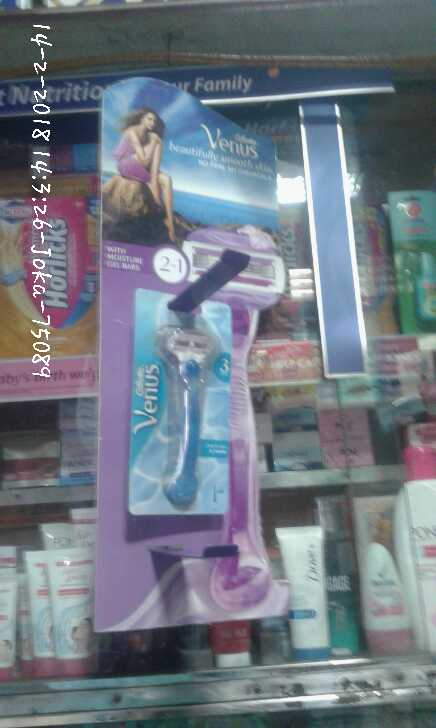venus: (131, 284, 230, 510)
